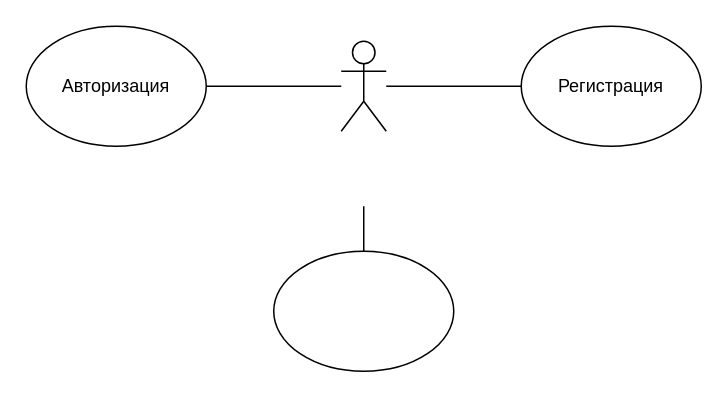
Some shapes in this 728 by 398 pixel diagram are drawn without their labels. The centre of each missing label's shape, as x and y in pixels:
"Неавторизованный пользователь" belongs at (x=363, y=85).
"Просмотр лэндинга" belongs at (x=363, y=310).
